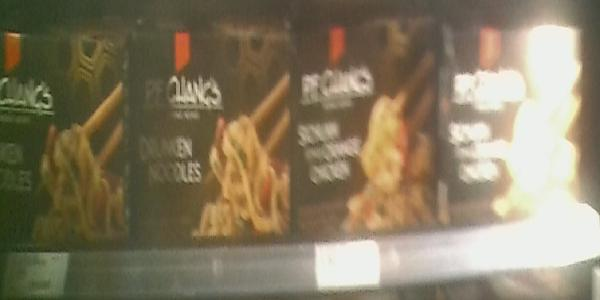pizza1: (128, 30, 291, 238), (294, 22, 441, 231), (443, 20, 586, 220), (1, 28, 128, 246)
